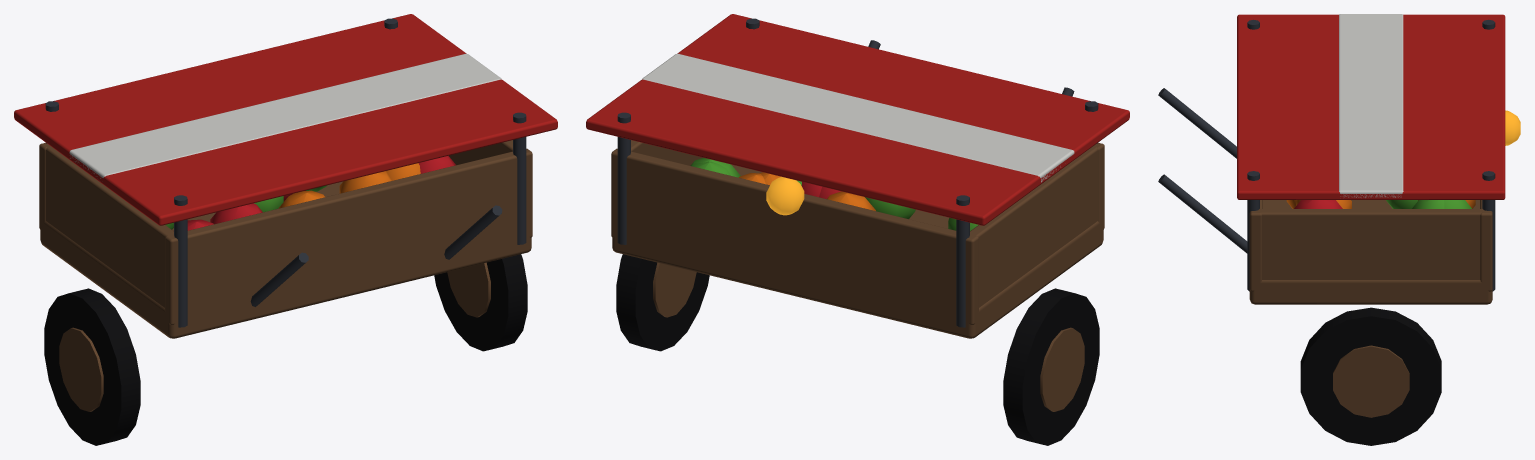
Rendered from obstacle_cart.glb.
3 views of the same model, side by side, from view 1: azimuth 30°, elevation 25°; view 2: azimuth 150°, elevation 25°; view 3: azimuth 270°, elevation 25° (orthographic). The views are drawn at different scales.
Visible parts, largest first — view 1: MarketCart; view 2: MarketCart; view 3: MarketCart.
Boxes of the visible parts, x1,y1,x2,y2 form: MarketCart: (14, 14, 557, 445); MarketCart: (586, 14, 1129, 445); MarketCart: (1158, 14, 1520, 445).
Size of the model in its own units: 1.7 by 1.11 by 1.42.
